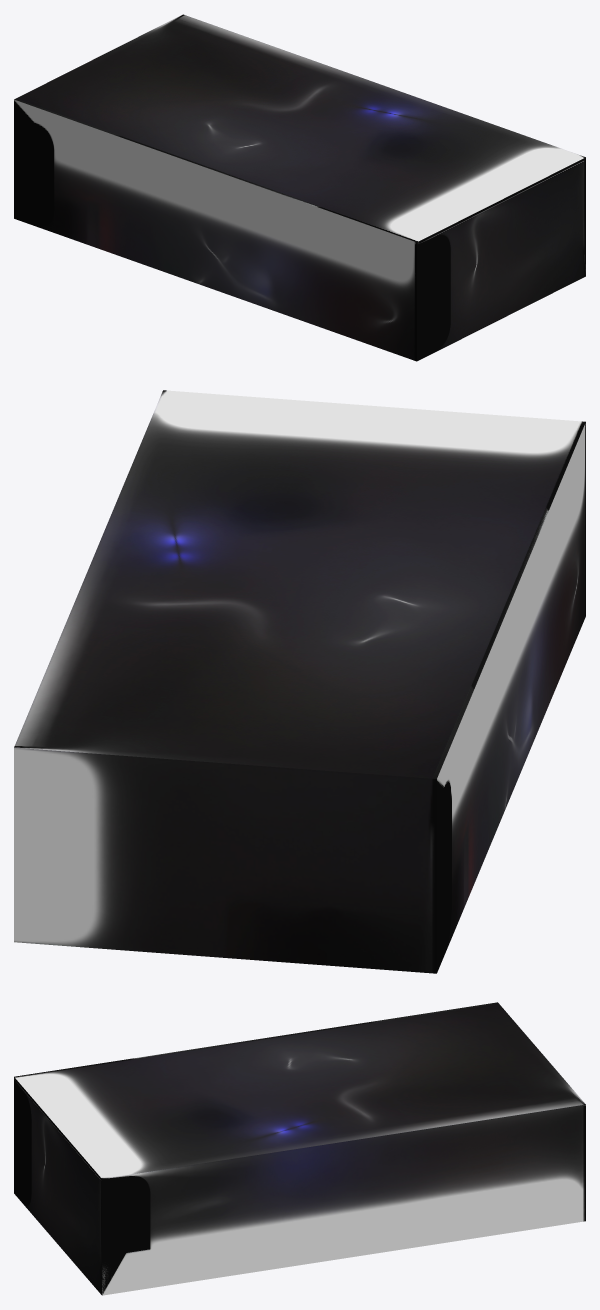
File: caixa azul.glb
The picture shows the model from 3 angles, top to bottom: view 1: azimuth 30°, elevation 25°; view 2: azimuth 150°, elevation 25°; view 3: azimuth 270°, elevation 25°; orthographic projection. The views are drawn at different scales.
Visible parts, largest first — view 1: CAIXA TUDO, ABAS; view 2: CAIXA TUDO, ABAS; view 3: CAIXA TUDO, ABAS.
Part boxes in pixels (x1,y1,x2,y2): CAIXA TUDO: [14, 14, 585, 360]; ABAS: [14, 98, 585, 361]; CAIXA TUDO: [14, 390, 585, 973]; ABAS: [432, 423, 585, 778]; CAIXA TUDO: [14, 1003, 585, 1295]; ABAS: [14, 1002, 585, 1295].
Bounding box in the file's own units: 264 × 81.29 × 361.
Materials: 21 (17 with a texture image).
